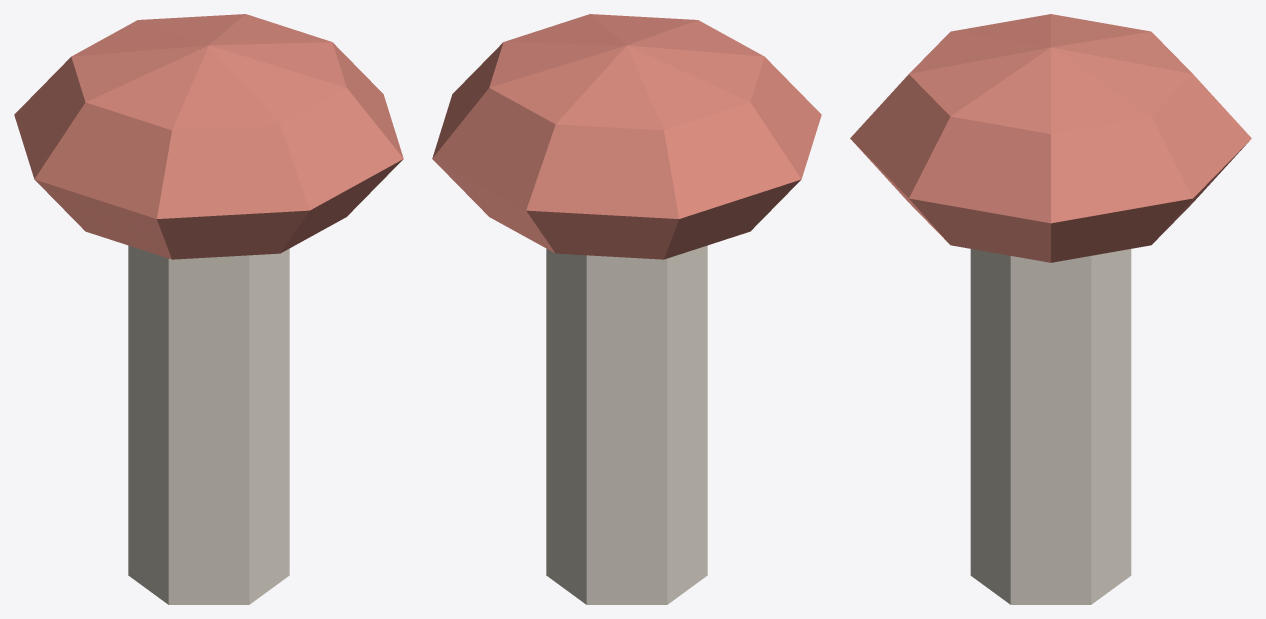
Rendered from 19_Mushroom_Red.glb.
3 renders of one model, left to right at view 1: azimuth 30°, elevation 25°; view 2: azimuth 150°, elevation 25°; view 3: azimuth 270°, elevation 25°, orthographic.
Parts seen in each view (by area): view 1: Mushroom_Red_Cap, Mushroom_Red_Stem; view 2: Mushroom_Red_Cap, Mushroom_Red_Stem; view 3: Mushroom_Red_Cap, Mushroom_Red_Stem.
Part boxes in pixels (box(x1,y1,x2,y2)): Mushroom_Red_Cap: box(14, 14, 403, 259); Mushroom_Red_Stem: box(128, 245, 289, 604); Mushroom_Red_Cap: box(432, 14, 821, 259); Mushroom_Red_Stem: box(546, 245, 707, 604); Mushroom_Red_Cap: box(850, 14, 1251, 262); Mushroom_Red_Stem: box(970, 249, 1131, 604).
Bounding box in the file's own units: 0.2 × 0.29 × 0.2.
